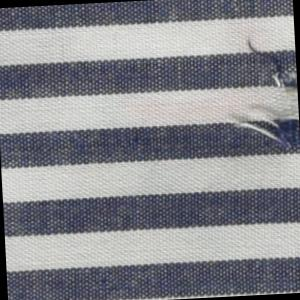Damage: (223, 38, 300, 157)
